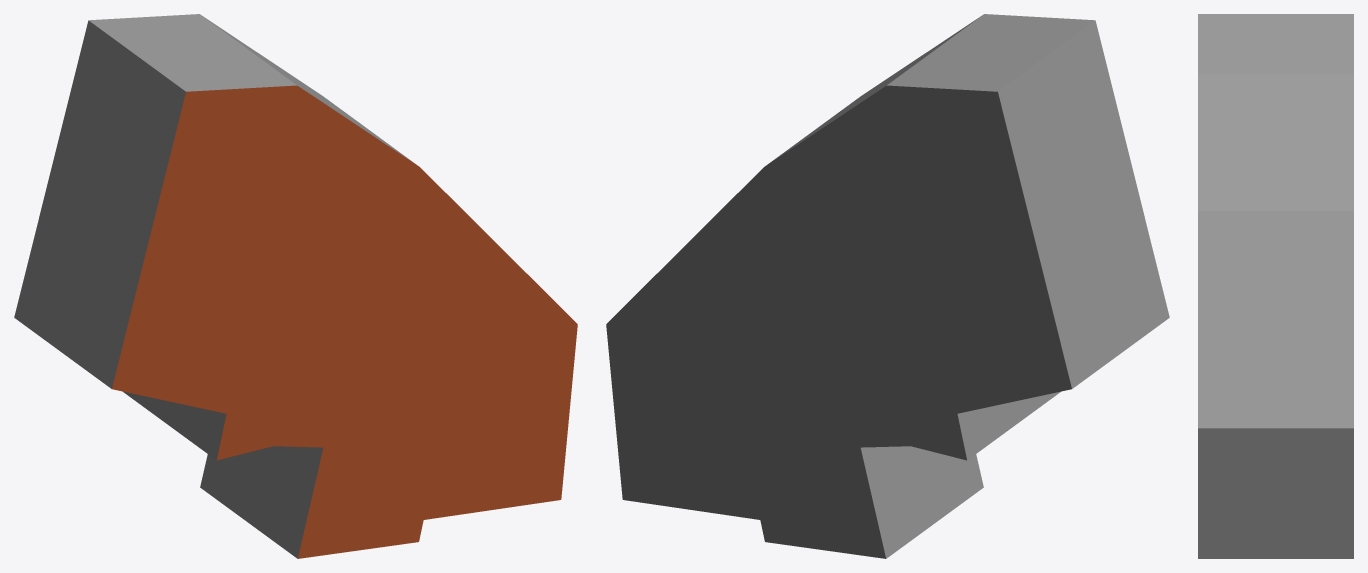
The model's file is construction_0429_assumed_A_Casa_h6m.obj.
The picture shows the model from 3 angles, left to right: view 1: azimuth 30°, elevation 25°; view 2: azimuth 150°, elevation 25°; view 3: azimuth 270°, elevation 25°; orthographic projection. The views are drawn at different scales.
Visible parts, largest first — view 1: construction_0429_assumed_A_Casa; view 2: construction_0429_assumed_A_Casa; view 3: construction_0429_assumed_A_Casa.
Part boxes in pixels (x1=…): construction_0429_assumed_A_Casa: x1=14, y1=14, x2=577, y2=558; construction_0429_assumed_A_Casa: x1=606, y1=14, x2=1169, y2=558; construction_0429_assumed_A_Casa: x1=1198, y1=14, x2=1353, y2=558.
Size of the model in its own units: 16.52 by 17.18 by 6.
